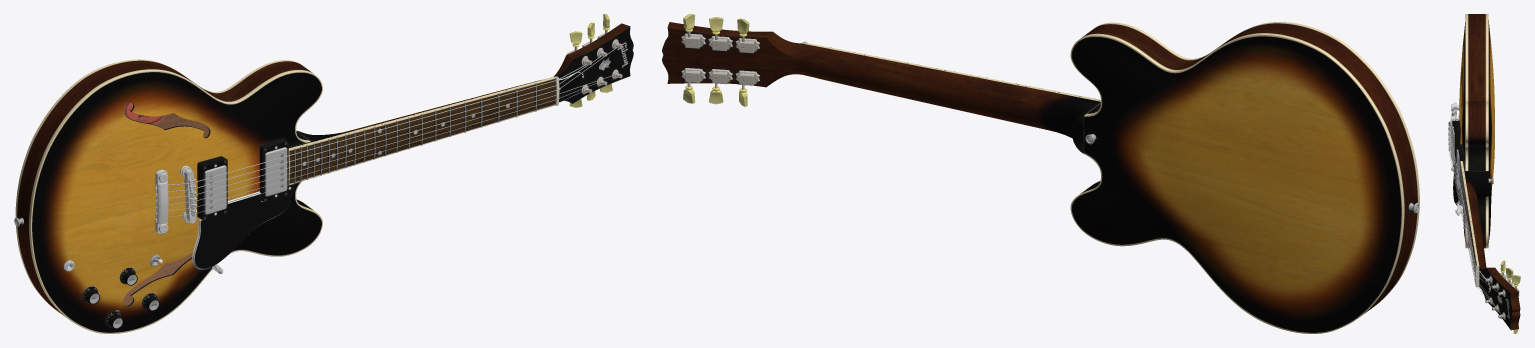
The model's file is gibson_es-335_vintage_burst_electric_guitar.glb.
The picture shows the model from 3 angles, left to right: view 1: azimuth 30°, elevation 25°; view 2: azimuth 150°, elevation 25°; view 3: azimuth 270°, elevation 25°; orthographic projection. The views are drawn at different scales.
Parts seen in each view (by area): view 1: Retopo_body_backup.007, neck.001, Plane, HUMBUCKER_BOT, HUMBUCKER_TOP, Retopo_body_backup.001, frets_bckup.001, Circle.001, Circle.055, string4, string5, string4.001 (+2 smaller); view 2: Retopo_body_backup.007, neck.001; view 3: Retopo_body_backup.007, neck.001, frets_bckup.001, HUMBUCKER_BOT, HUMBUCKER_TOP, string4, string5, string3, string4.001, Plane, string2, Circle.055 (+6 smaller).
Part boxes in pixels (left/top/right/bottom): Retopo_body_backup.007: left=15, top=59, right=322, bottom=333; neck.001: left=288, top=23, right=633, bottom=184; Plane: left=192, top=183, right=294, bottom=269; HUMBUCKER_BOT: left=197, top=156, right=227, bottom=220; HUMBUCKER_TOP: left=259, top=138, right=288, bottom=202; Retopo_body_backup.001: left=124, top=102, right=209, bottom=305; frets_bckup.001: left=294, top=83, right=536, bottom=183; Circle.001: left=155, top=169, right=168, bottom=234; Circle.055: left=180, top=165, right=197, bottom=223; string4: left=168, top=59, right=590, bottom=185; string5: left=168, top=51, right=604, bottom=191; string4.001: left=168, top=43, right=620, bottom=198; Retopo_body_backup.007: left=1070, top=22, right=1419, bottom=333; neck.001: left=662, top=22, right=1100, bottom=153; Retopo_body_backup.007: left=1459, top=14, right=1494, bottom=248; neck.001: left=1460, top=161, right=1520, bottom=330; frets_bckup.001: left=1459, top=163, right=1475, bottom=274; HUMBUCKER_BOT: left=1451, top=120, right=1460, bottom=170; HUMBUCKER_TOP: left=1456, top=144, right=1464, bottom=193; string4: left=1448, top=121, right=1489, bottom=281; string5: left=1448, top=128, right=1495, bottom=288; string3: left=1448, top=138, right=1502, bottom=317; string4.001: left=1448, top=133, right=1502, bottom=295; Plane: left=1453, top=170, right=1462, bottom=205; string2: left=1448, top=143, right=1495, bottom=310; Circle.055: left=1448, top=114, right=1459, bottom=156.
Size of the model in its own units: 4.52 by 1.74 by 0.5947.
Materials: 1 (1 with a texture image).
